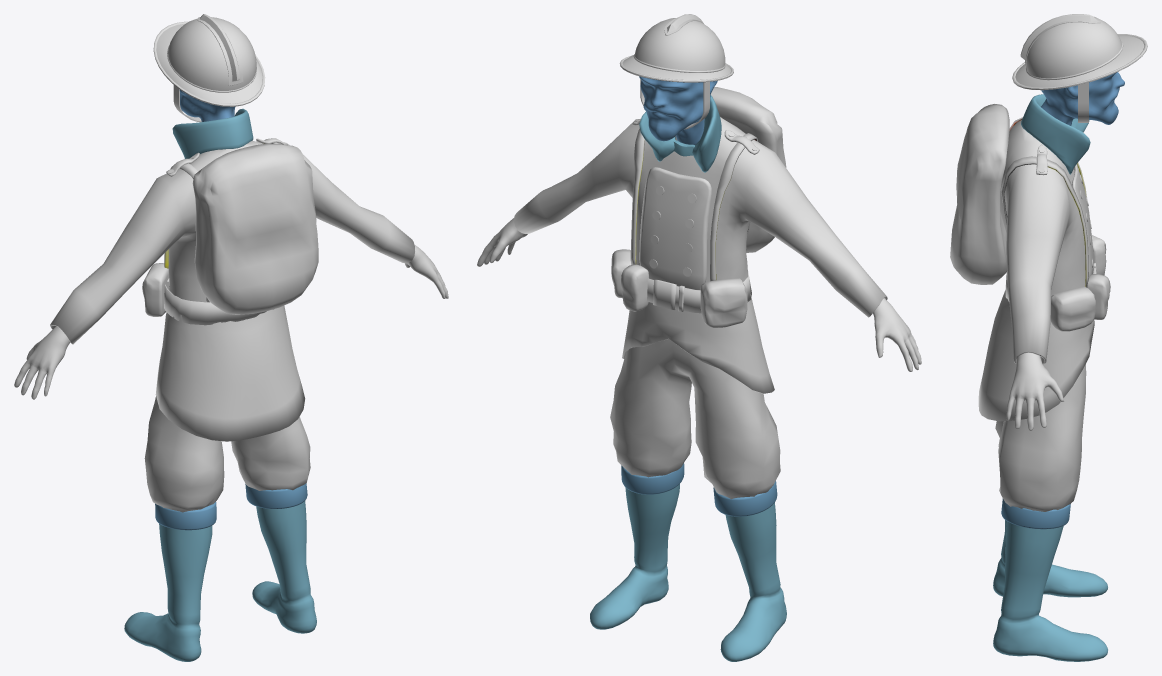
Rendered from both.FBX.
The picture shows the model from 3 angles, left to right: view 1: azimuth 30°, elevation 25°; view 2: azimuth 150°, elevation 25°; view 3: azimuth 270°, elevation 25°; orthographic projection. The views are drawn at different scales.
Visible parts, largest first — view 1: helmet_low, face_low; view 2: helmet_low, face_low; view 3: helmet_low, face_low.
Boxes of the visible parts, x1,y1,x2,y2 form: helmet_low: (50, 14, 414, 661); face_low: (14, 90, 448, 399); helmet_low: (514, 14, 887, 661); face_low: (477, 76, 921, 371); helmet_low: (950, 14, 1147, 661); face_low: (1006, 72, 1124, 430).
Size of the model in its own units: 12.87 by 17.49 by 5.13.
